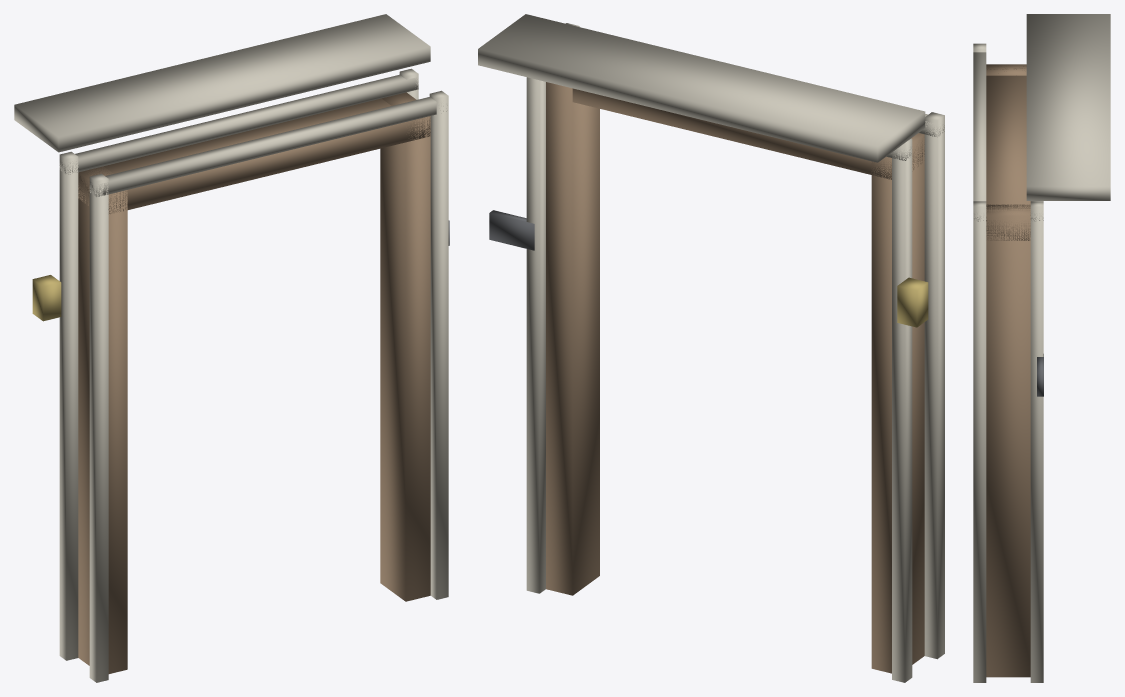
File: doorway_motel_w152_h240_d24.glb
3 views of the same model, side by side, from view 1: azimuth 30°, elevation 25°; view 2: azimuth 150°, elevation 25°; view 3: azimuth 270°, elevation 25° (orthographic). The views are drawn at different scales.
Parts seen in each view (by area): view 1: world; view 2: world; view 3: world.
Boxes of the visible parts, x1=… form: world: x1=14, y1=14, x2=449, y2=682; world: x1=478, y1=14, x2=944, y2=682; world: x1=973, y1=14, x2=1110, y2=682.
Bounding box in the file's own units: 2.22 × 2.76 × 0.6858.
